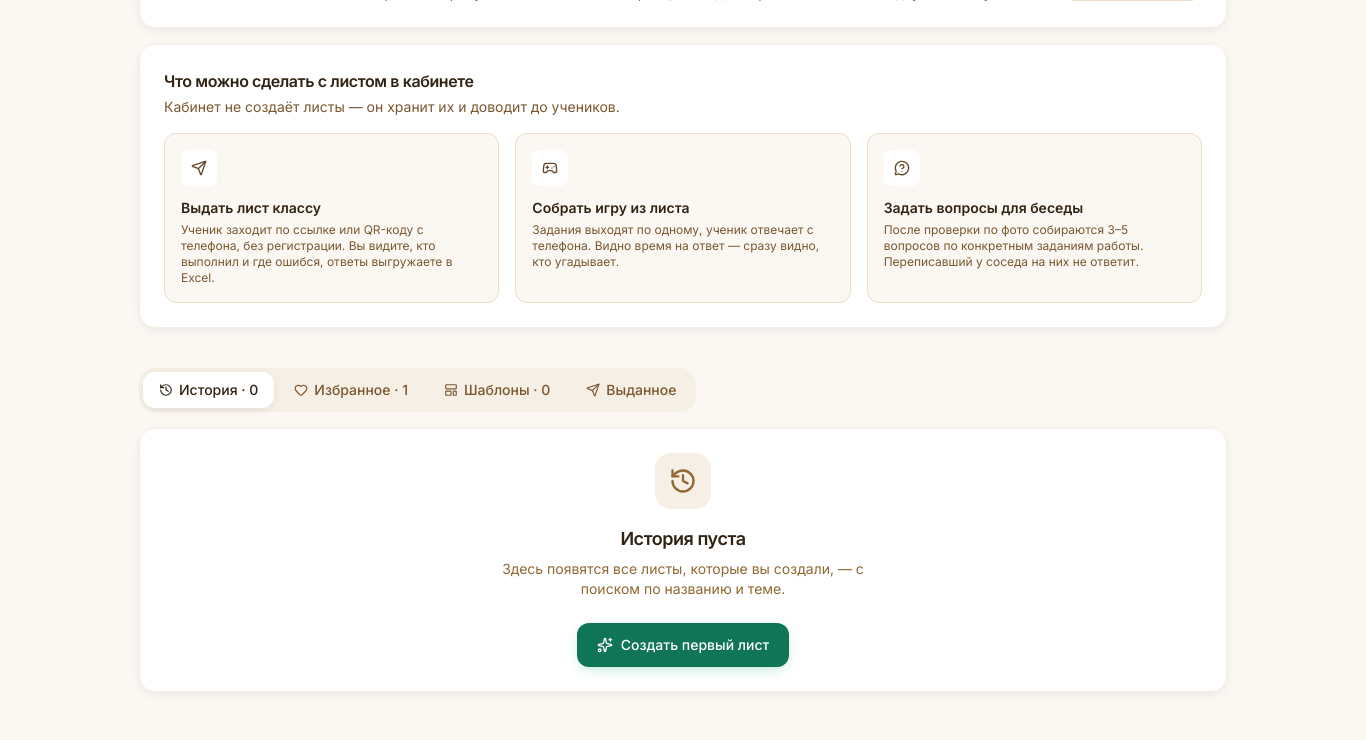
Остальные вкладки кабинета › избранное устройства показывается анонимному учителю
(page scrolled)
Expected: the heading "История пуста" is shown, [620,528,746,549]
Click the tab "Избранное · 1" at (351, 390), box [278,372,424,408]
(page scrolled)
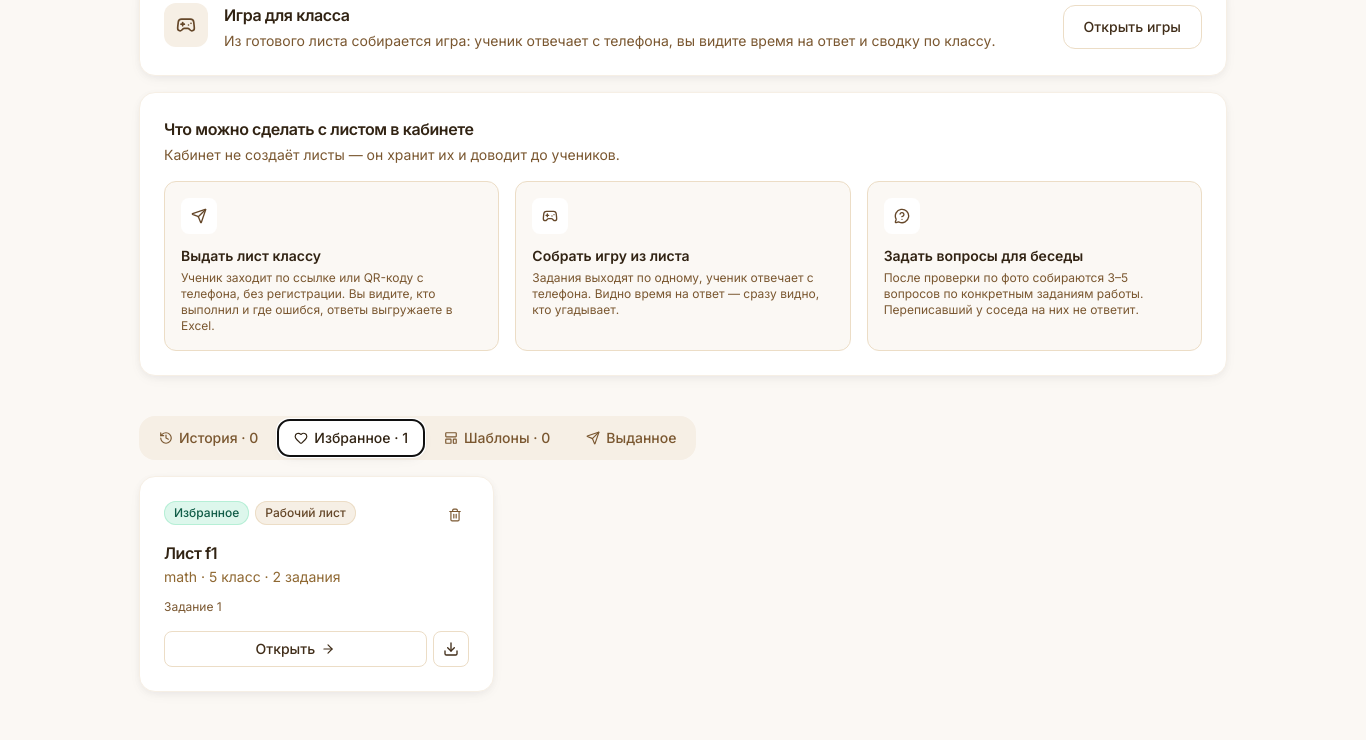
Now the heading "Лист f1" is shown, box [164,543,217,563]
